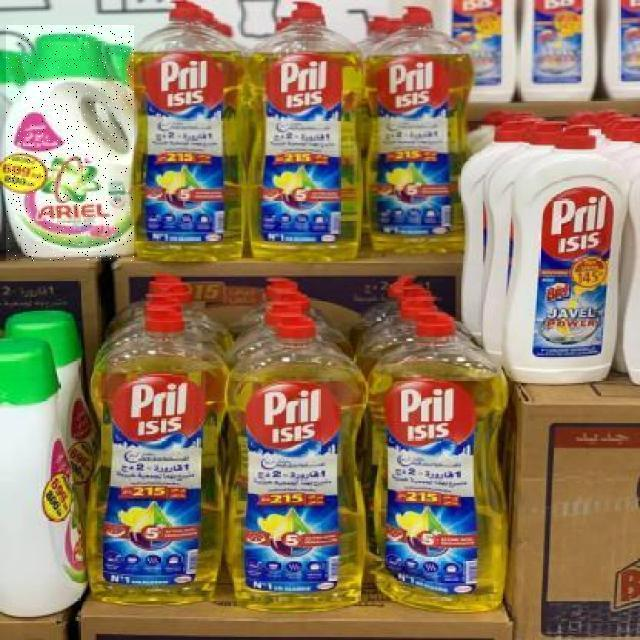Detergent: (6, 25, 134, 261)
